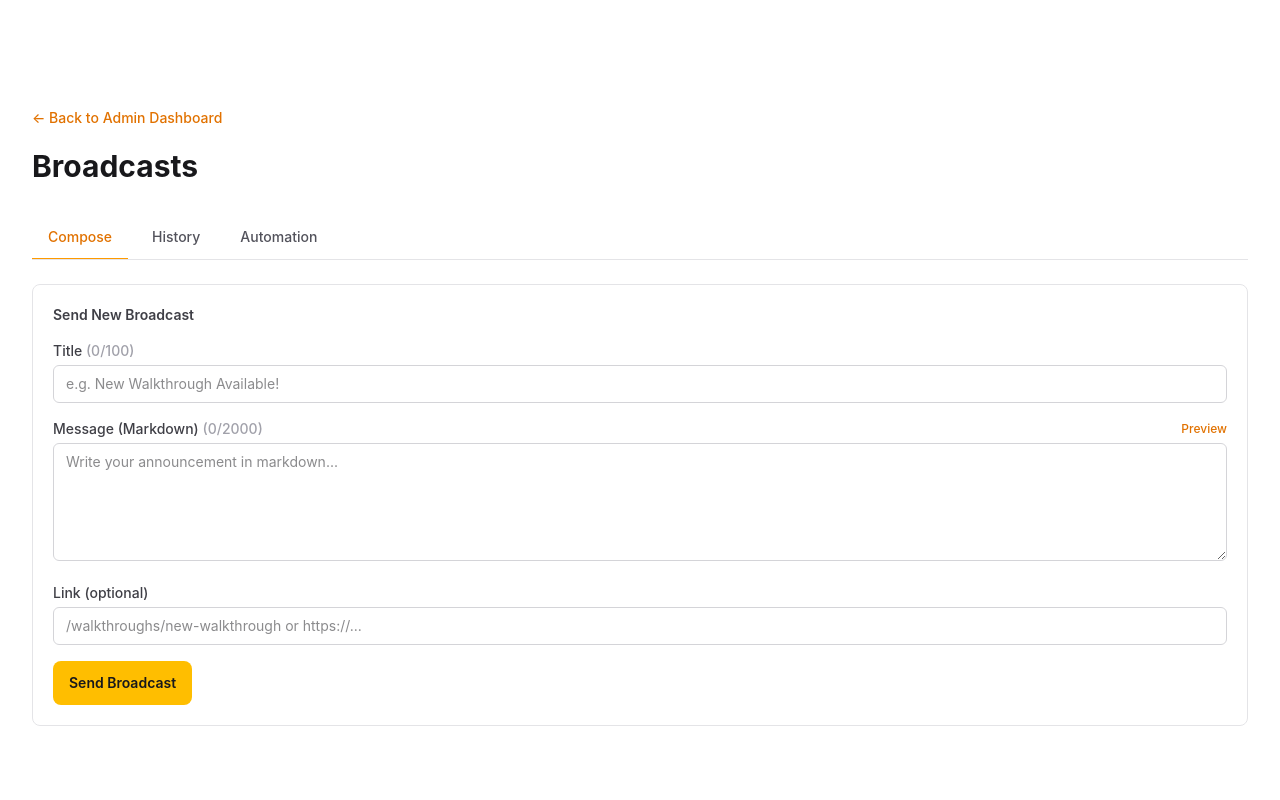
it: admin view › switches panels on click and links tabs to panels via aria-controls
Click the tab "History" at (176, 238), box [136,216,216,260]
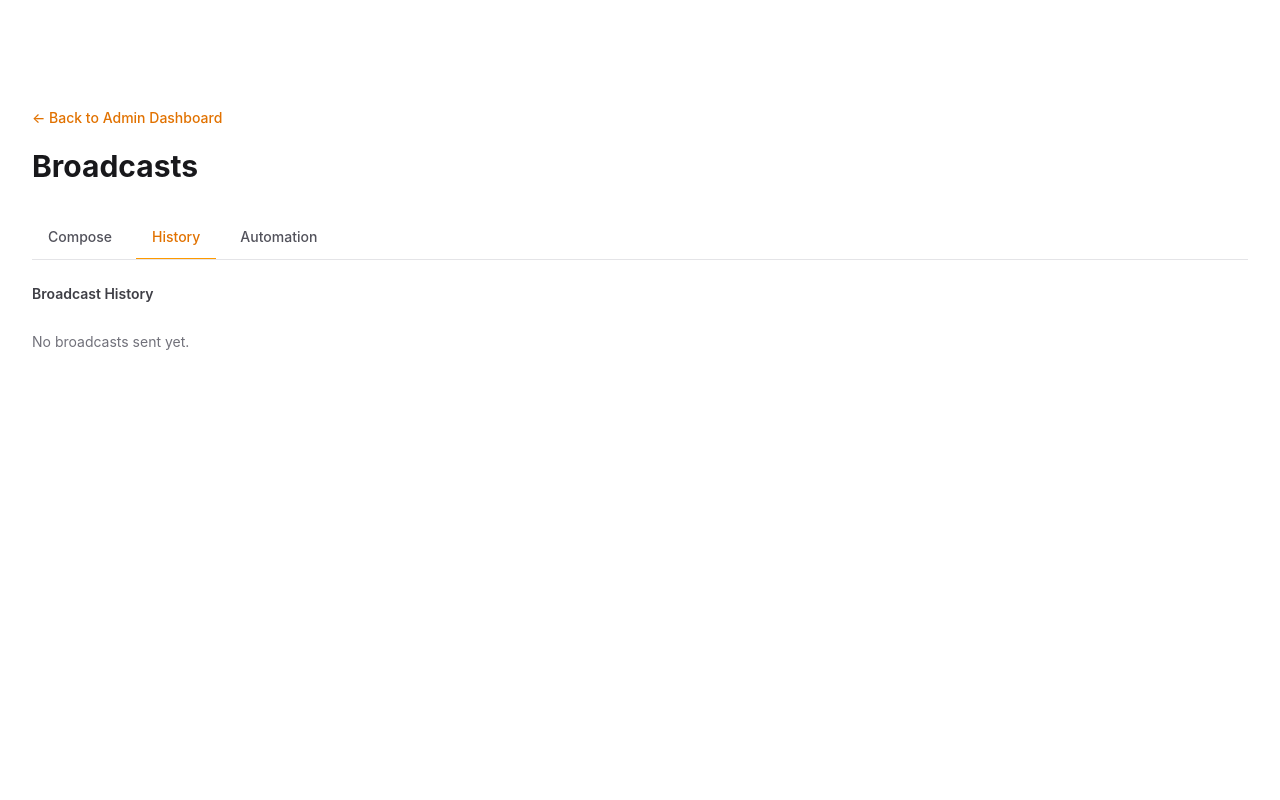
expect the text "No broadcasts sent yet." is shown: met, box [32,333,189,350]
Click the tab "Automation" at (279, 238), box [224,216,333,260]
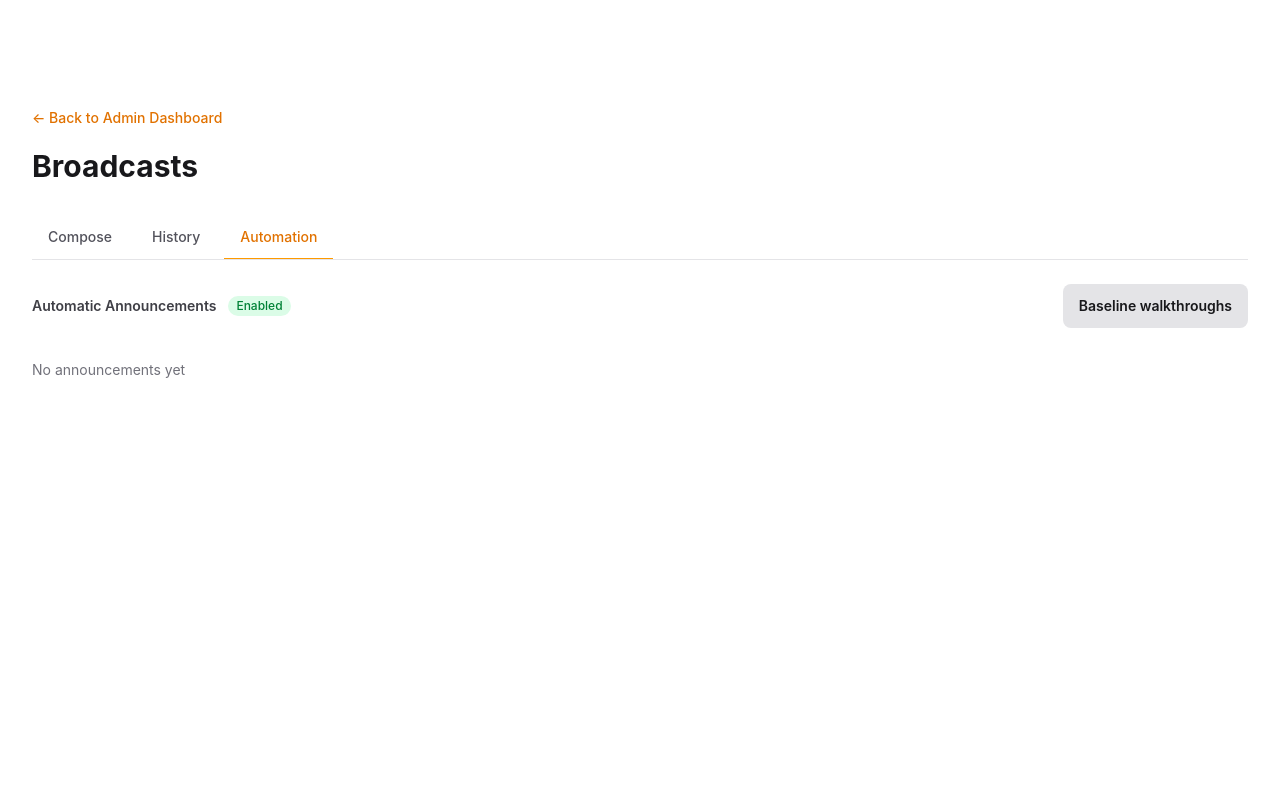
expect the text "No announcements yet" is shown: met, box [32,361,185,378]
